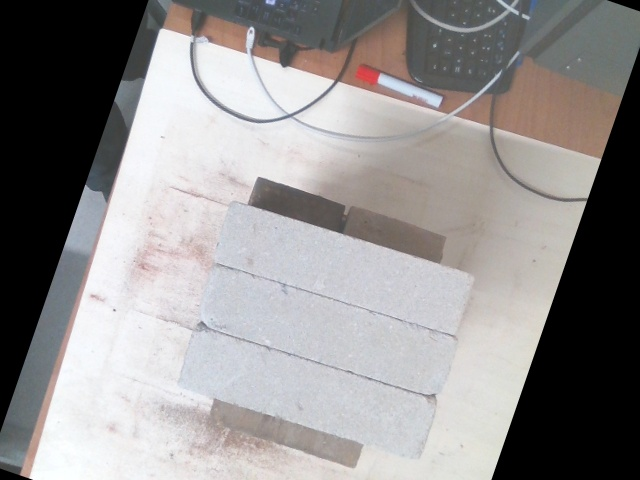brick-side: (193, 264, 453, 395), (177, 328, 436, 459), (215, 204, 474, 334)
